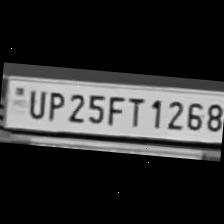1: (143, 96, 165, 130)
2: (161, 96, 185, 130), (64, 90, 87, 124)
5: (83, 92, 107, 125)
6: (182, 98, 206, 132)
8: (201, 99, 224, 133)
F: (104, 94, 126, 128)
P: (42, 88, 66, 122)
T: (123, 94, 147, 128)
U: (24, 86, 47, 120)
